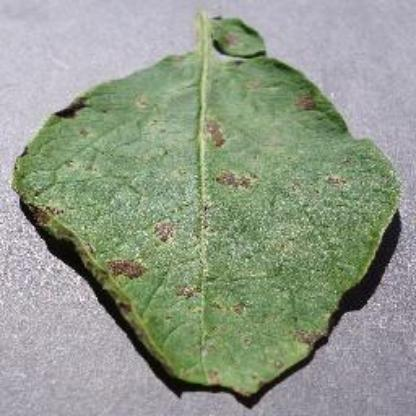Early-Blight: (10, 2, 410, 404)
